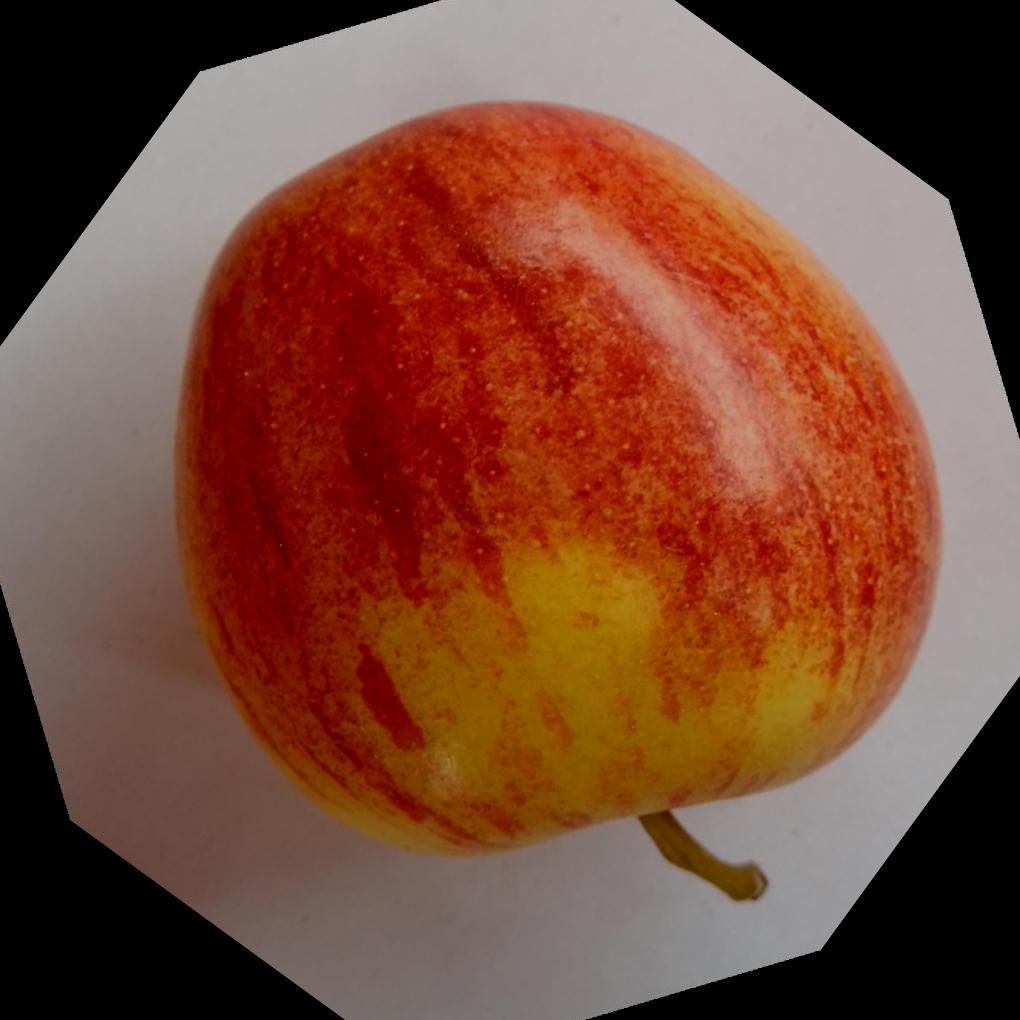FreshGuava: (172, 94, 948, 857)
